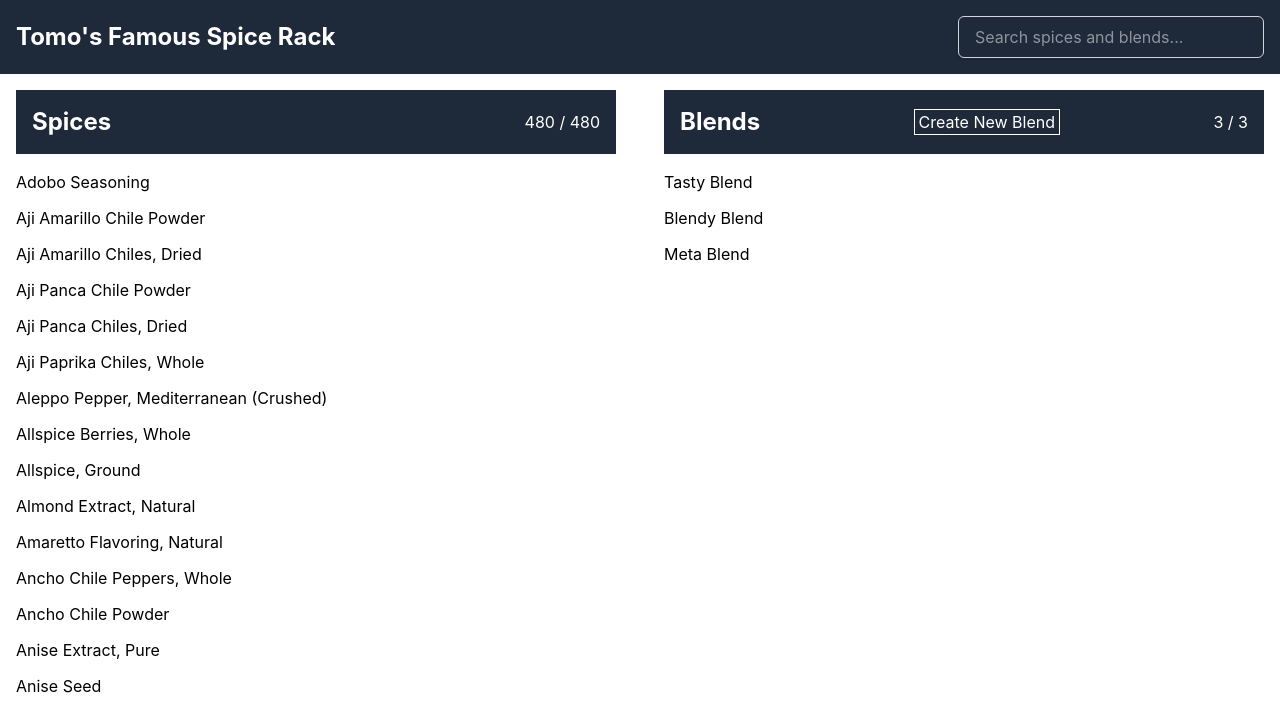
filters spices and blends based on search string
Check: the link "Adobo Seasoning" is shown, box [16,172,150,192]
// Type in search box
Type "cinna" into the field with placeholder "Search spices and blends...".
click(1111, 37); type("cinna")  # box [958,16,1264,58]
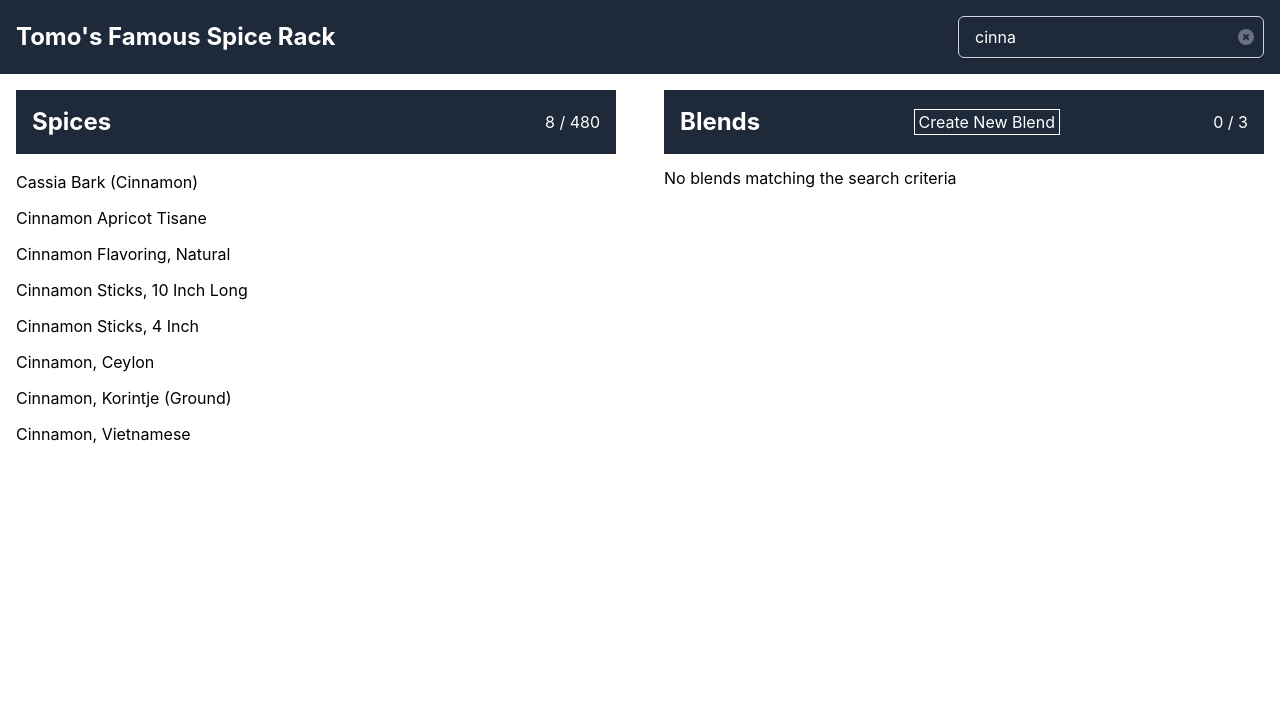
Check: the text "Cassia Bark (Cinnamon)" is shown, box [16,172,198,192]
